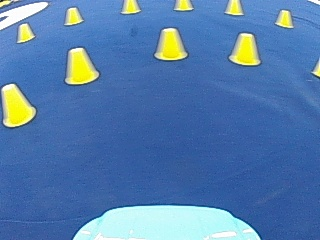cone: (0, 82, 35, 126), (64, 46, 98, 85), (153, 27, 187, 60), (229, 31, 261, 65), (16, 22, 34, 42), (64, 6, 82, 25), (275, 9, 293, 28), (225, 0, 242, 15), (121, 0, 139, 14), (173, 0, 192, 11)
